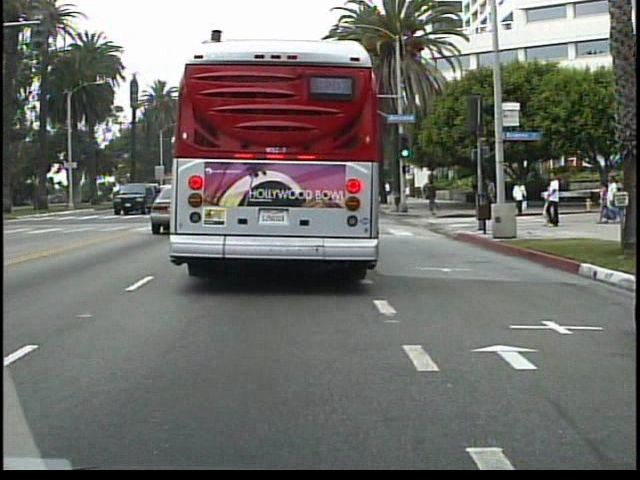person: (544, 169, 565, 227), (483, 173, 501, 215), (426, 177, 442, 217), (516, 178, 529, 213)
